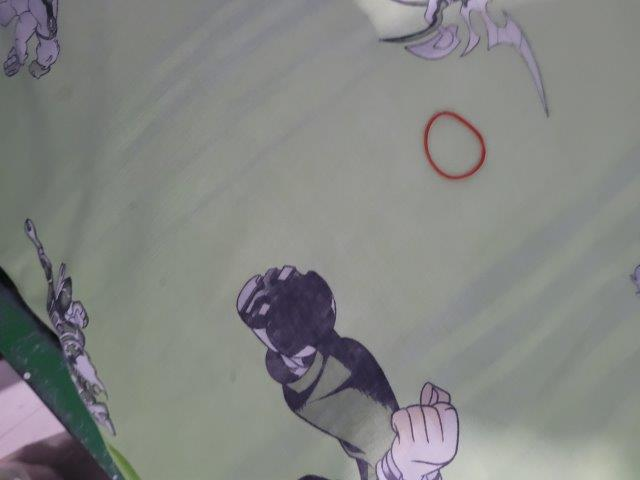karet: (423, 110, 487, 180)
